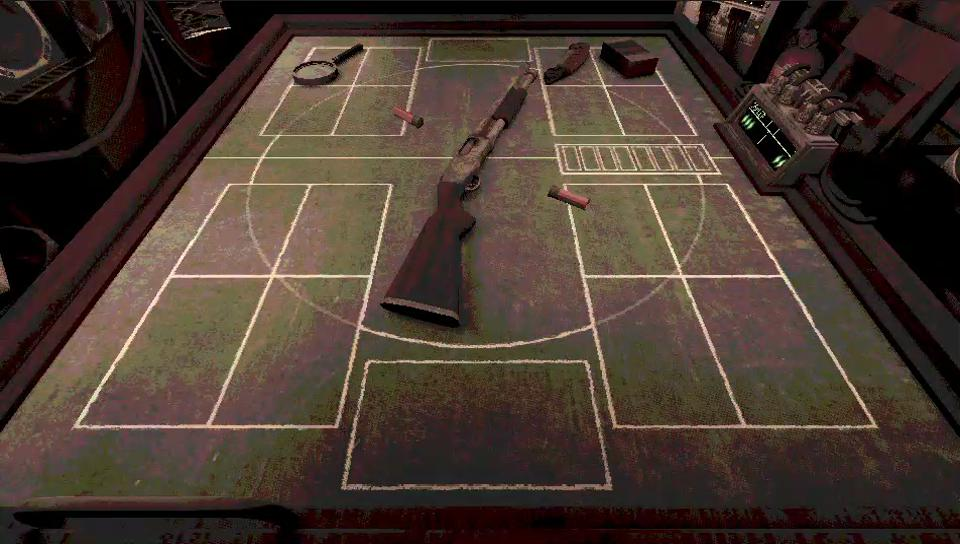ally: (2, 147, 959, 517)
cigar: (599, 40, 658, 77)
doubledamage: (543, 42, 589, 84)
emptyspace: (689, 276, 879, 426), (74, 274, 265, 423), (212, 277, 368, 425), (589, 274, 738, 426), (169, 184, 303, 275), (652, 185, 775, 278), (272, 183, 390, 276), (566, 183, 678, 274), (263, 84, 351, 136), (607, 85, 697, 134), (547, 85, 624, 135), (334, 86, 408, 136), (354, 48, 420, 86)
enemyspace: (201, 30, 732, 146)
gun: (383, 67, 536, 326)
lens: (292, 43, 363, 86)
